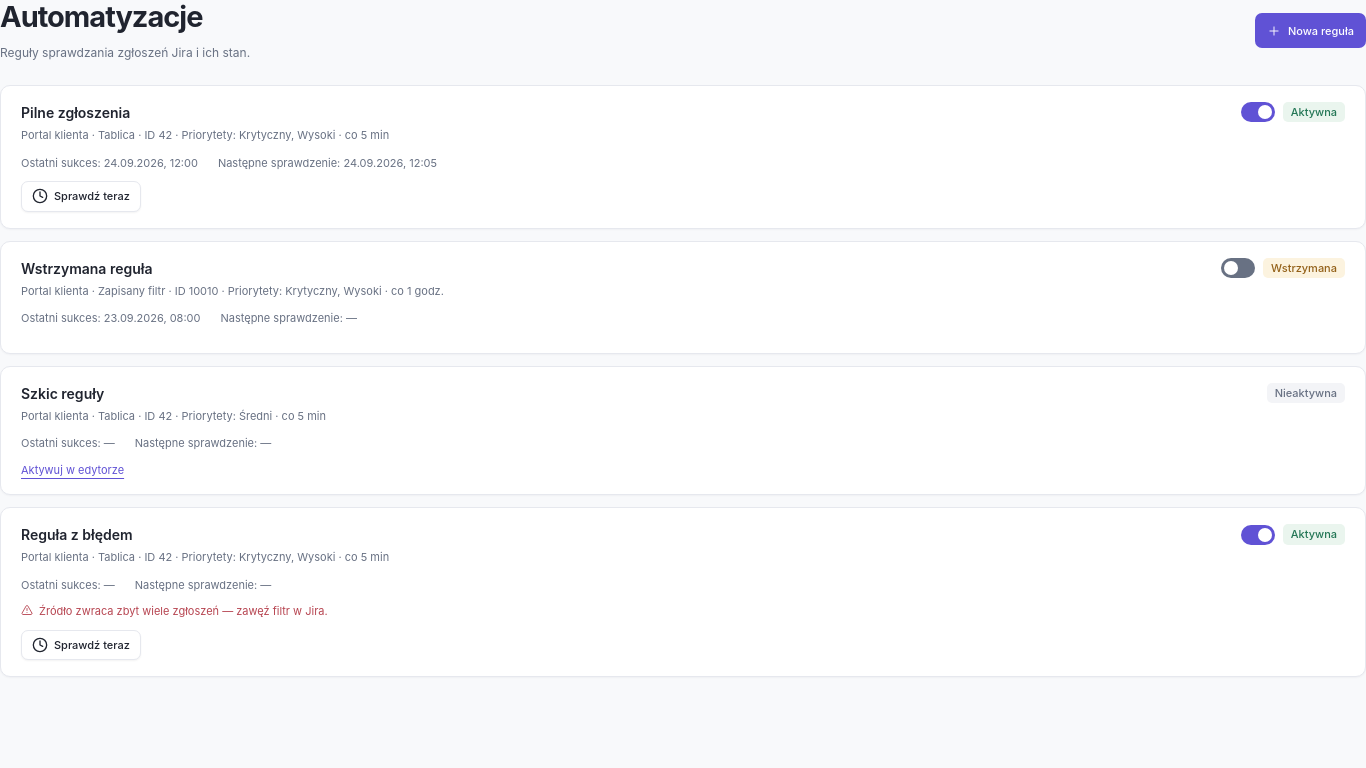
Scenario: T24.8 pauza, wznowienie i następny termin z odpowiedzi backendu › odmowa wznowienia (activation_blocked) pokazuje polskie powody z pól odpowiedzi
Click the switch named "Reguła Wstrzymana reguła aktywna". click: point(1238, 268)
box: [1221,258,1255,278]
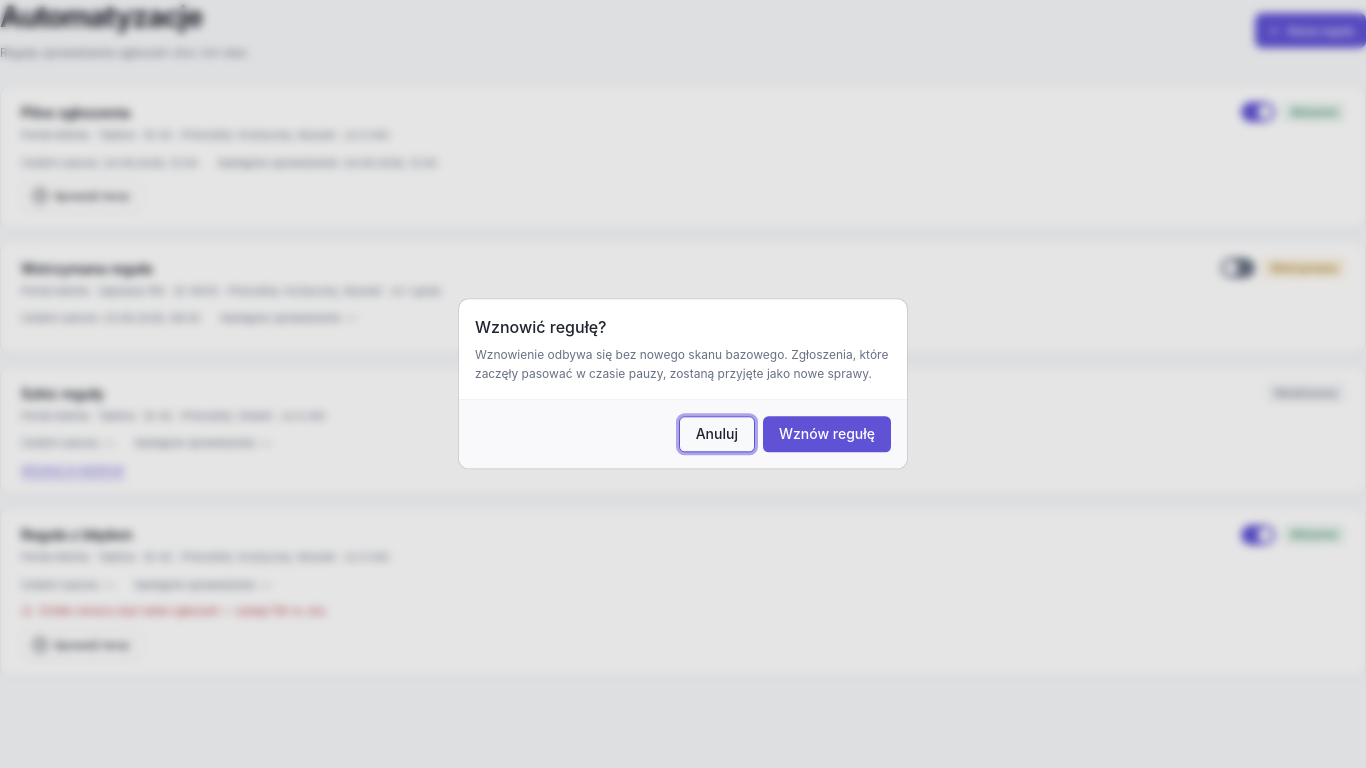
Click the button "Wznów regułę". click: point(827, 435)
box: [763,417,891,453]
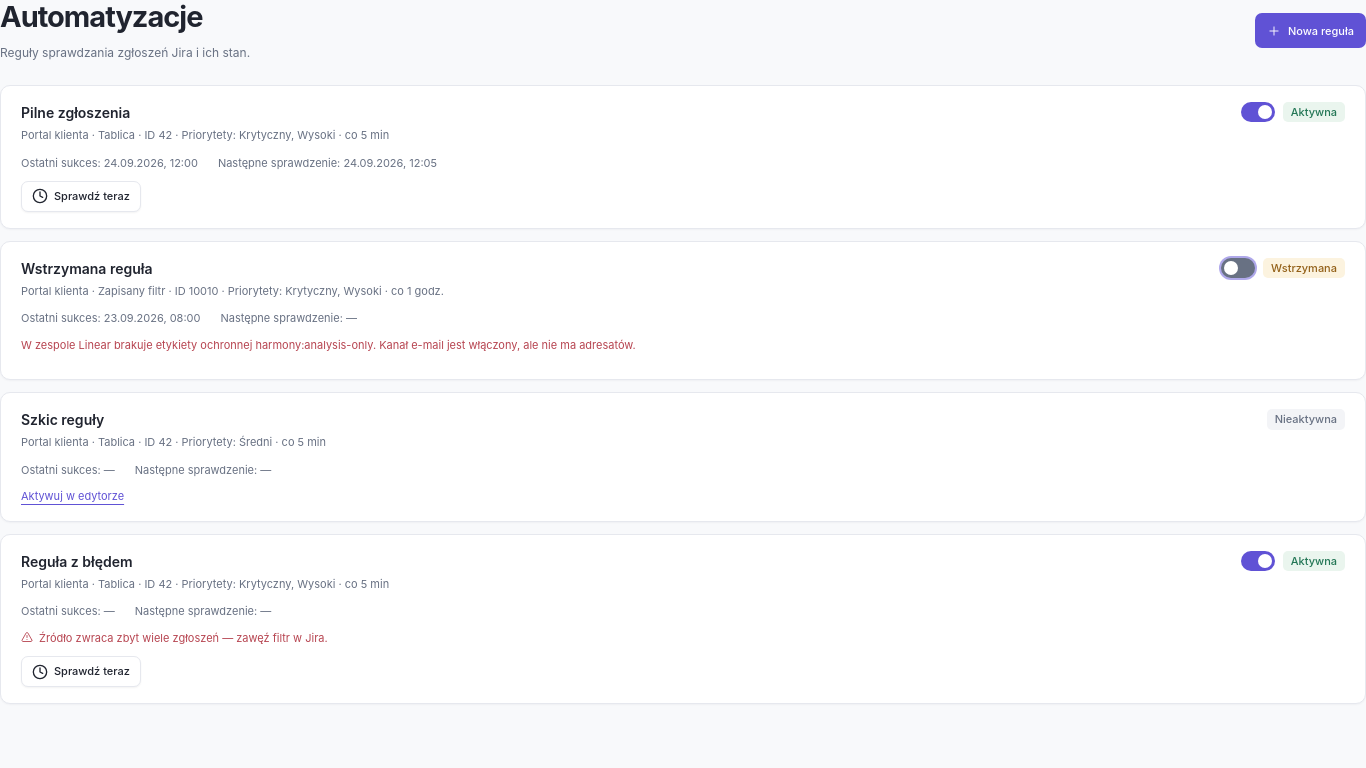
Expected: the message does not show "Nie udało się wykonać akcji", [21,338,636,352]
Result: the message shows "Kanał e-mail jest włączony, ale nie ma adresatów" at [21,338,636,352]
